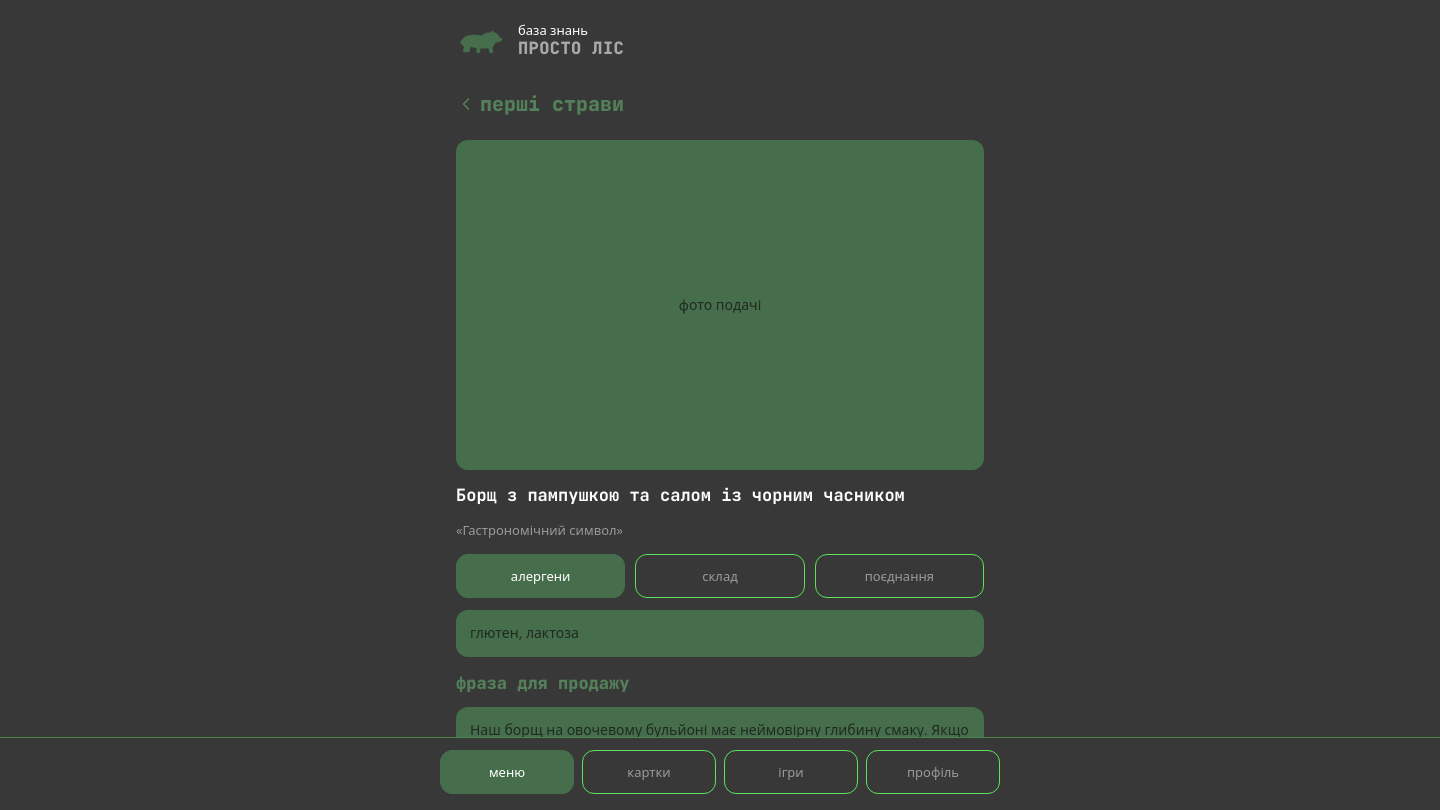
Test: ItemDetailView (mobile) › shows a food item with allergens first, then composition and the empty pairing state
Expected: the heading "Борщ з пампушкою та салом із чорним часником" is shown, [456,484,984,507]
Expected: the panel named "алергени" reads "глютен, лактоза", [470,623,579,642]
Click the tab "склад". click: (720, 576)
box: [635,554,805,598]
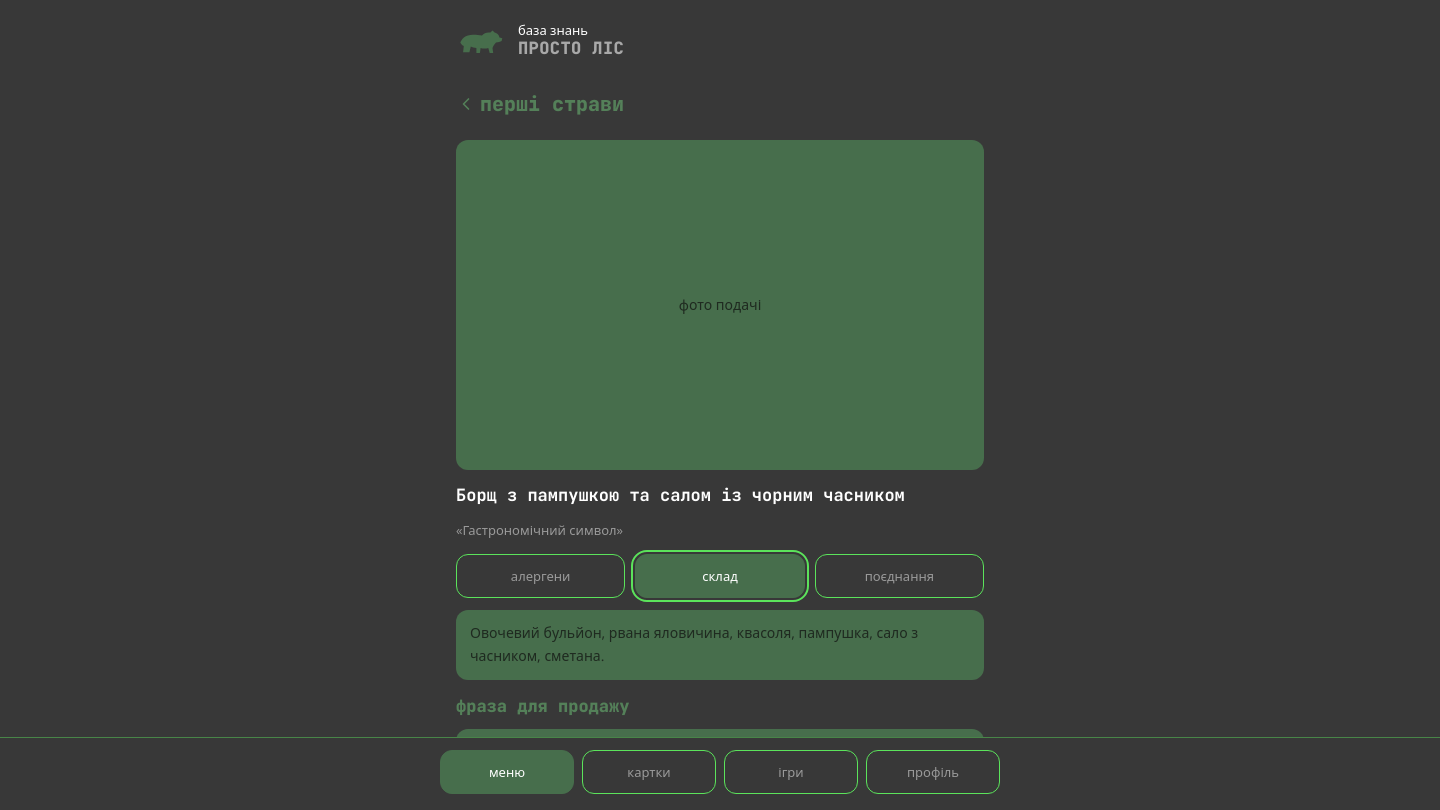
Expected: the panel named "склад" shows "Овочевий бульйон", [470,623,918,665]
Click the tab "поєднання". click: (899, 576)
box: [815,554,984,598]
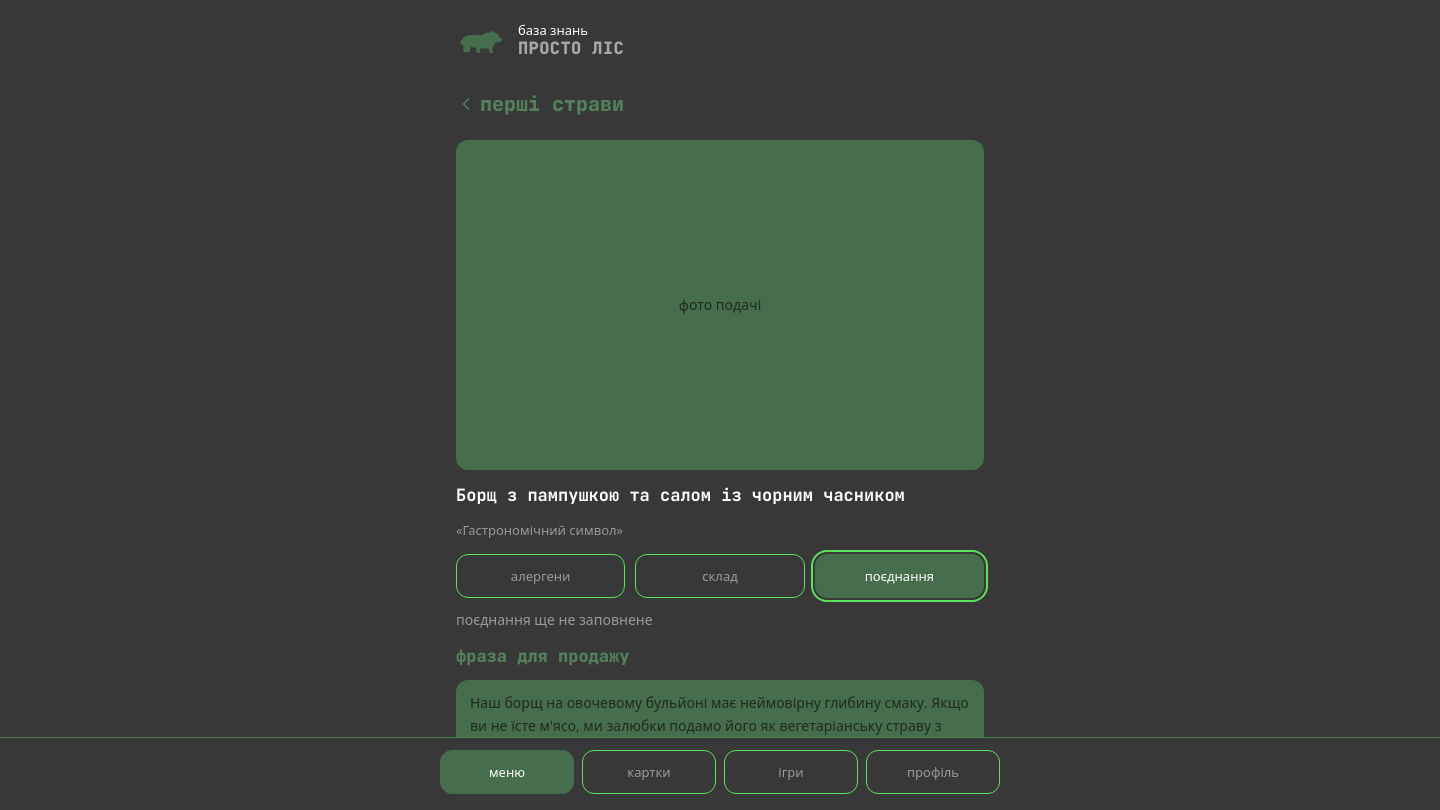
Expected: the heading "фраза для продажу" is shown, [456,645,629,667]
Expected: the text "поєднання ще не заповнене" is shown, [456,610,653,629]
